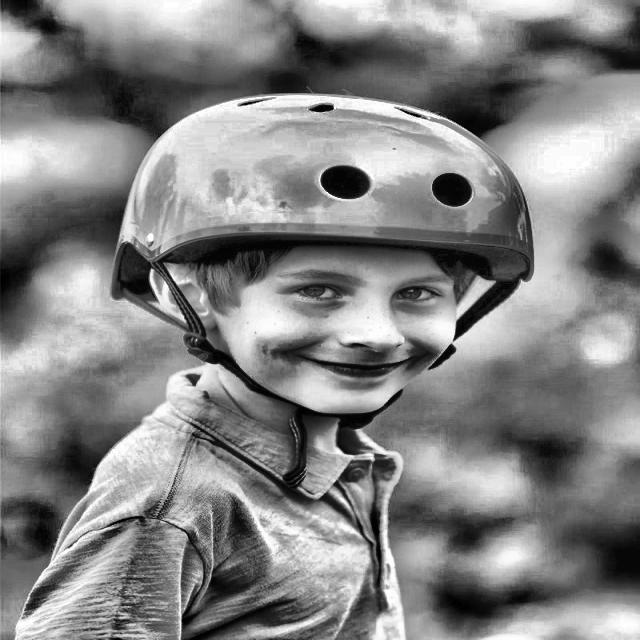Helmet: (110, 92, 536, 415)
